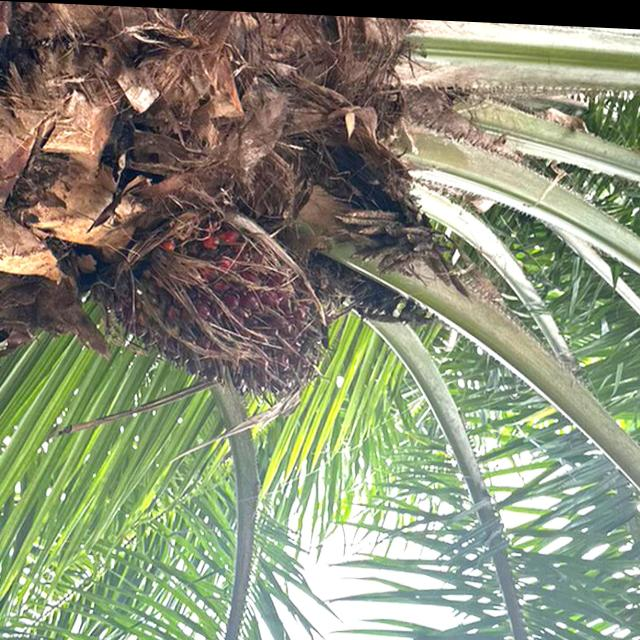ripe: (130, 207, 344, 413)
